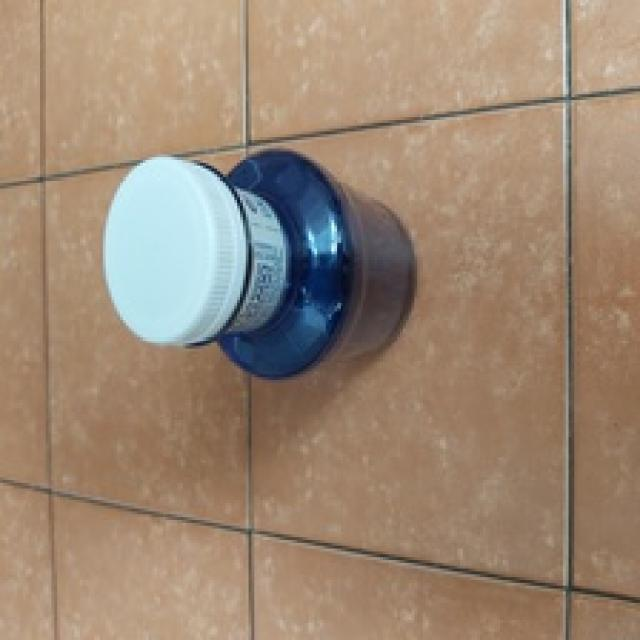Plastic: (105, 144, 418, 383)
